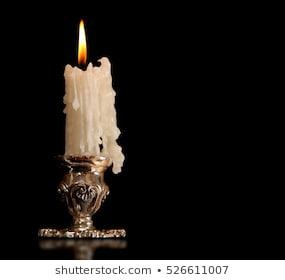fire: (55, 44, 133, 228), (74, 17, 88, 65)
